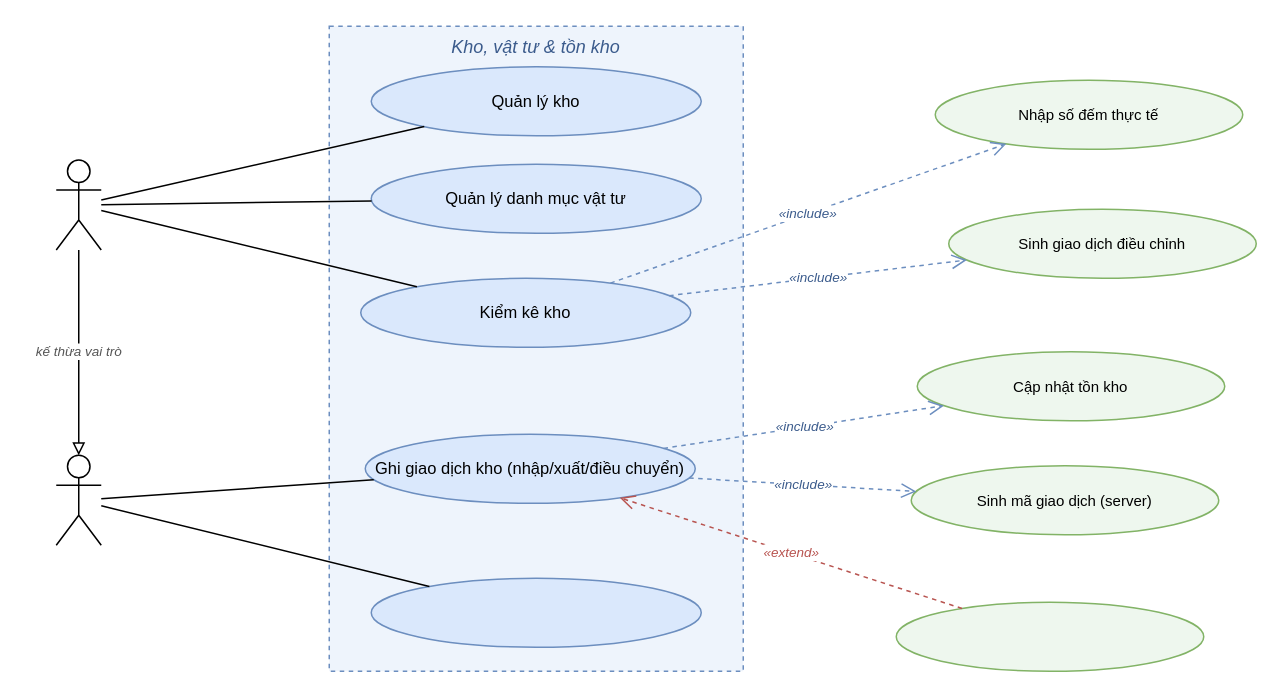
Some shapes in this 1283 by 698 pixel diagram are drawn without their labels. The shapes that lost their labels are listed below. From the top down, each one's centre as x and y in pixels, then its label:
point (78, 204): Kỹ sư trưởng
point (78, 499): Kỹ thuật viên
point (535, 612): Xem cảnh báo tồn thấp
point (1049, 636): Chặn xuất vượt tồn
